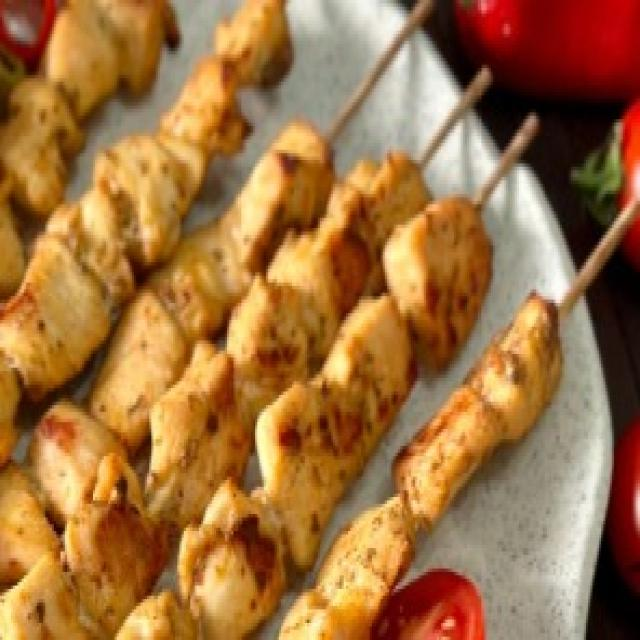ana_yemek: (0, 0, 638, 637)
